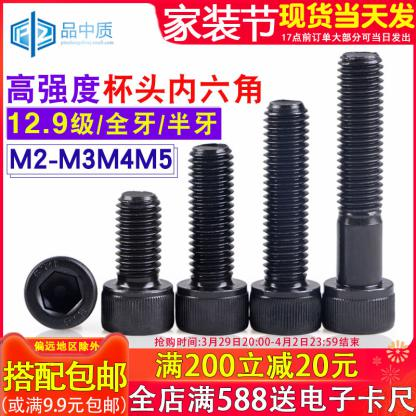FOD: (322, 52, 398, 335), (247, 97, 323, 338), (175, 143, 249, 337), (100, 188, 176, 338), (20, 254, 100, 332)
